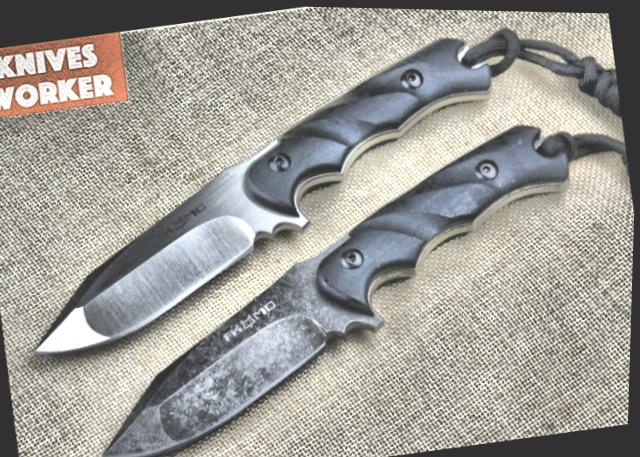knife: (1, 155, 307, 373), (74, 272, 364, 457)
